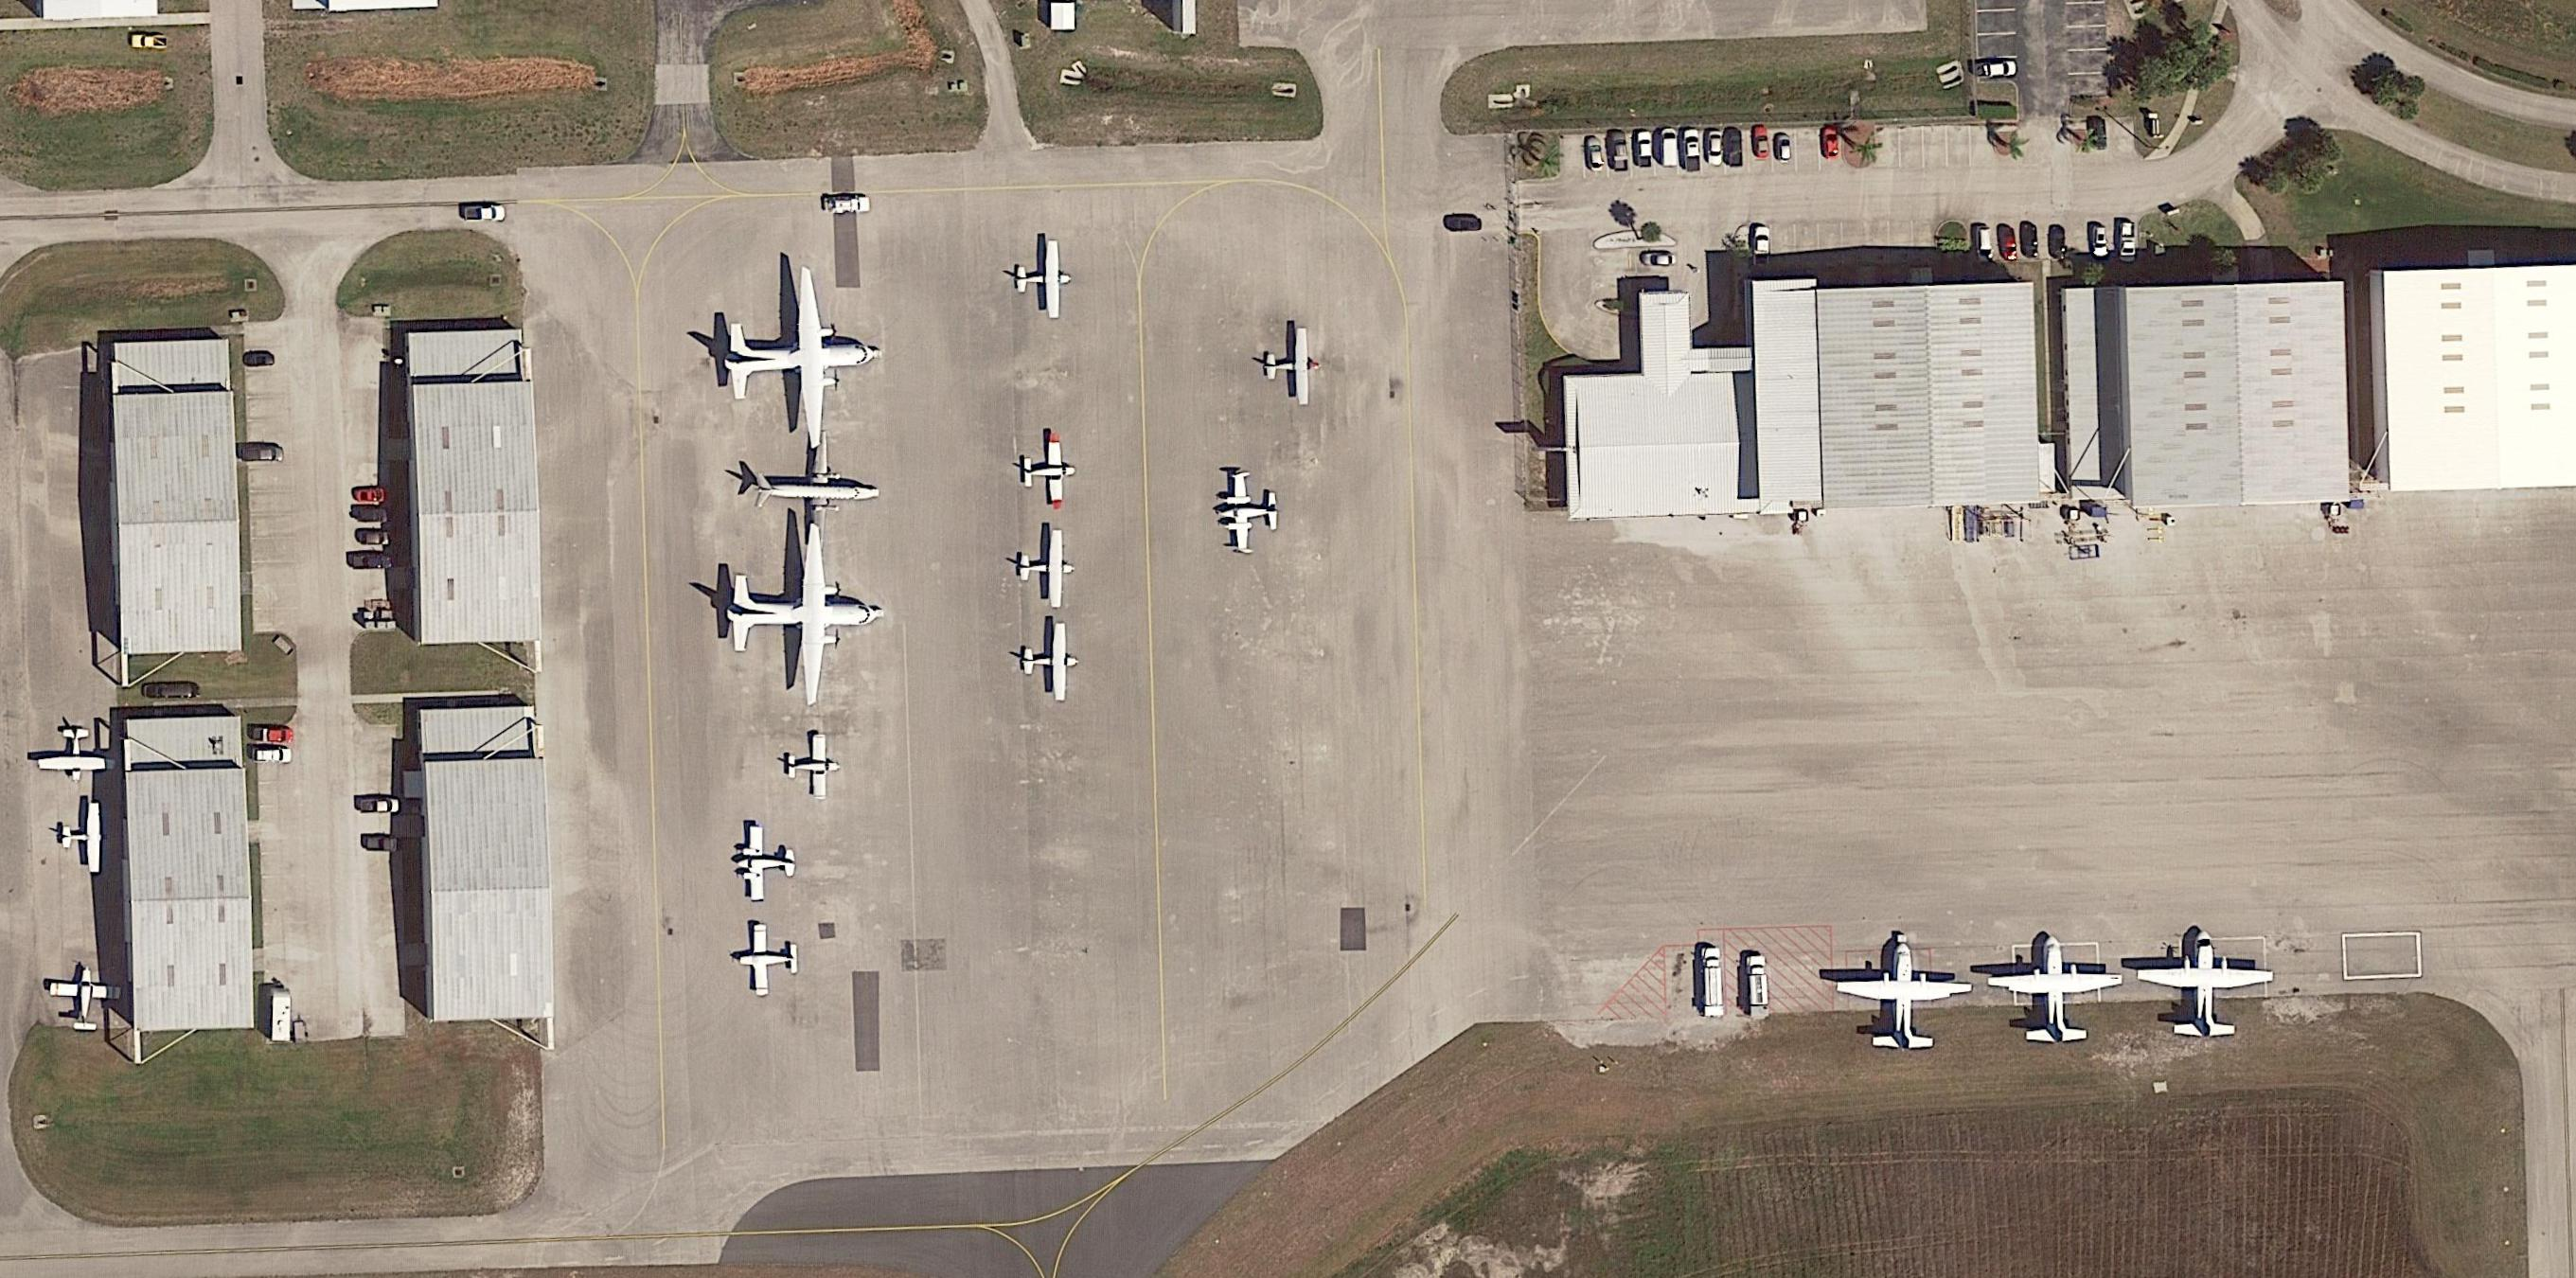plane: (716, 263, 887, 458), (721, 516, 882, 705), (747, 425, 887, 557), (1833, 936, 1973, 1051), (1986, 931, 2124, 1043), (2134, 928, 2272, 1038), (1216, 470, 1283, 555), (46, 963, 123, 1035), (1020, 621, 1081, 703), (1014, 238, 1073, 320), (1019, 526, 1076, 609), (1260, 327, 1321, 406), (736, 825, 797, 903), (739, 922, 800, 999), (1020, 430, 1076, 513), (39, 728, 117, 780), (61, 800, 115, 874), (785, 733, 841, 802)
